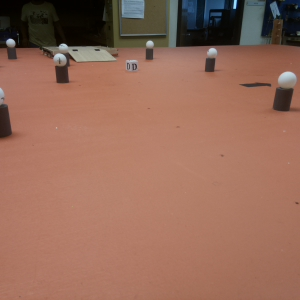obstacle: (275, 68, 295, 112), (1, 87, 10, 136), (54, 53, 68, 82), (204, 48, 215, 73), (146, 41, 155, 60), (6, 38, 15, 57)
slope: (69, 50, 117, 62)
